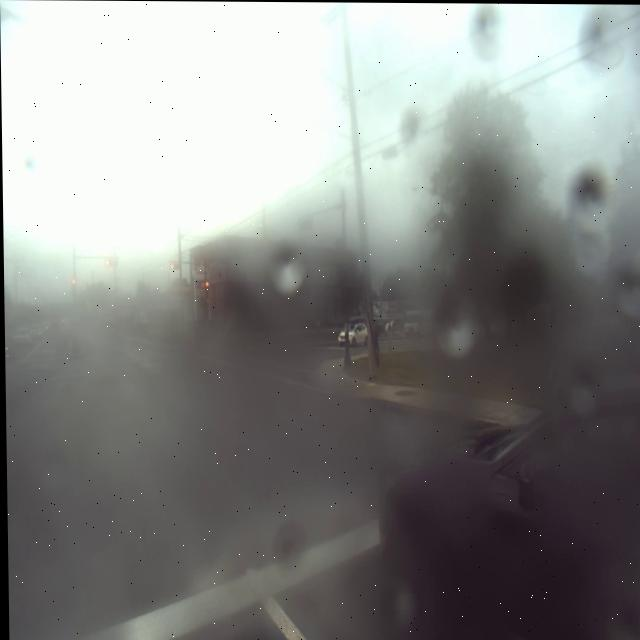car: (4, 325, 13, 370)
